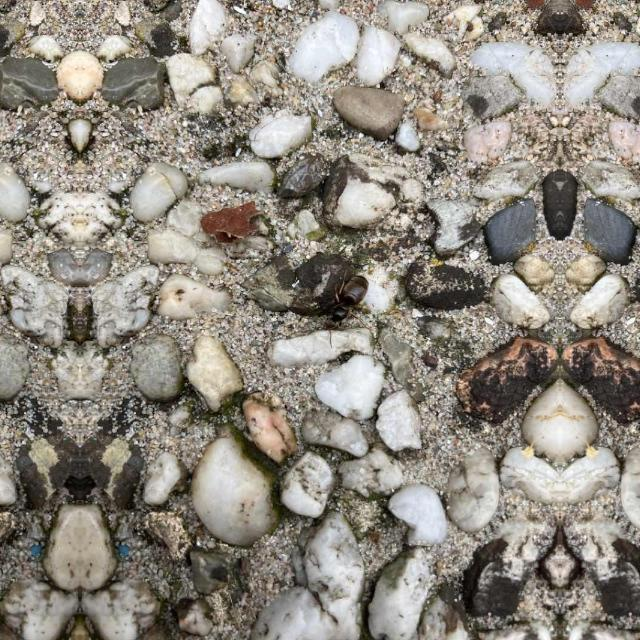Lasius: (288, 253, 380, 344)
